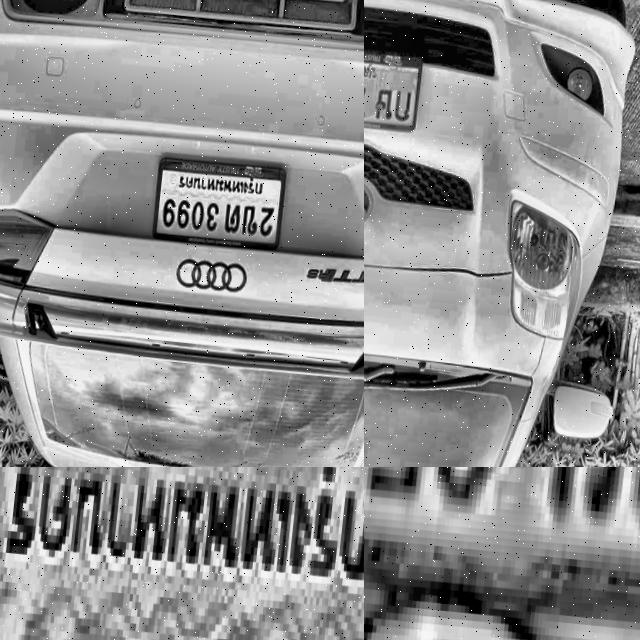license-plate: (0, 467, 364, 640), (364, 467, 640, 620), (148, 154, 287, 256), (364, 38, 423, 134)
